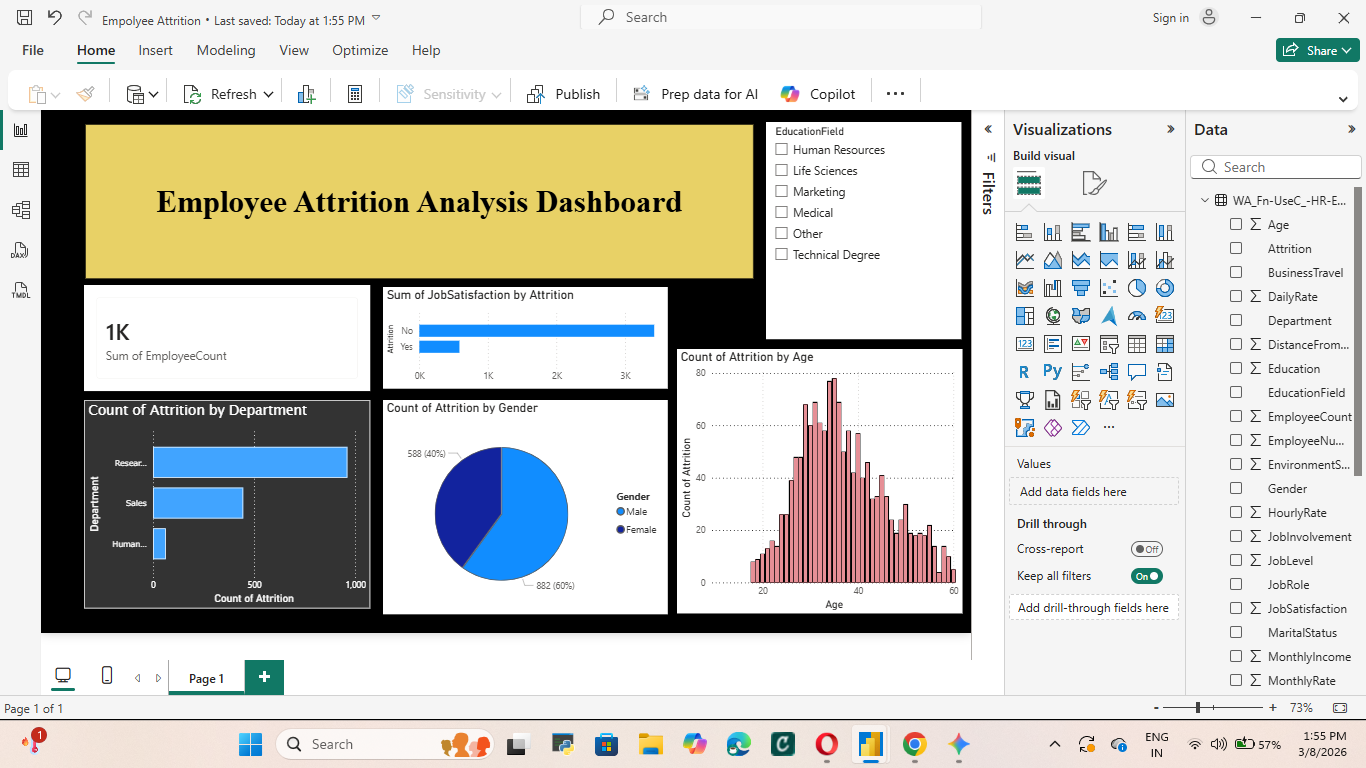

The dashboard page shown, as its layout file describes it:
{"tool":"powerbi","page":{"name":"Page 1","canvas":[1280,720],"ordinal":0},"visuals":[{"type":"clusteredBarChart","fields":{"Y":["CountNonNull(WA_Fn-UseC_-HR-Employee-Attrition.Attrition)"],"Category":["WA_Fn-UseC_-HR-Employee-Attrition.Department"]},"box":[59.9,399.7,394.4,287],"z":0},{"type":"pieChart","fields":{"Category":["WA_Fn-UseC_-HR-Employee-Attrition.Gender"],"Y":["CountNonNull(WA_Fn-UseC_-HR-Employee-Attrition.Attrition)"]},"box":[470.7,399.1,392.3,294.5],"z":1000},{"type":"columnChart","fields":{"Category":["WA_Fn-UseC_-HR-Employee-Attrition.Age"],"Y":["CountNonNull(WA_Fn-UseC_-HR-Employee-Attrition.Attrition)"]},"box":[875,329.2,392.6,364.5],"z":2000},{"type":"cardVisual","fields":{"Data":["Sum(WA_Fn-UseC_-HR-Employee-Attrition.EmployeeCount)"]},"box":[59.9,241.2,394.4,146.1],"z":3000},{"type":"shape","box":[60.2,19.6,920.3,213.4],"z":4000},{"type":"slicer","fields":{"Values":["WA_Fn-UseC_-HR-Employee-Attrition.EducationField"]},"box":[998.3,15.8,269.4,299.3],"z":5000},{"type":"barChart","fields":{"Y":["Sum(WA_Fn-UseC_-HR-Employee-Attrition.JobSatisfaction)"],"Category":["WA_Fn-UseC_-HR-Employee-Attrition.Attrition"]},"box":[470.7,243.6,392.3,140.4],"z":5001}]}

Visuals, with their boxes on the page's 1280x720 design canvas (x1, y1, x2, y2). These are canvas units, not pixel positions in the 1366x768 screenshot, which may show the page scaled, cropped or inside an application window:
clusteredBarChart - CountNonNull(WA_Fn-UseC_-HR-Employee-Attrition.Attrition) x WA_Fn-UseC_-HR-Employee-Attrition.Department: rect(60, 400, 454, 687)
pieChart - WA_Fn-UseC_-HR-Employee-Attrition.Gender x CountNonNull(WA_Fn-UseC_-HR-Employee-Attrition.Attrition): rect(471, 399, 863, 694)
columnChart - WA_Fn-UseC_-HR-Employee-Attrition.Age x CountNonNull(WA_Fn-UseC_-HR-Employee-Attrition.Attrition): rect(875, 329, 1268, 694)
cardVisual - Sum(WA_Fn-UseC_-HR-Employee-Attrition.EmployeeCount): rect(60, 241, 454, 387)
shape: rect(60, 20, 980, 233)
slicer - WA_Fn-UseC_-HR-Employee-Attrition.EducationField: rect(998, 16, 1268, 315)
barChart - Sum(WA_Fn-UseC_-HR-Employee-Attrition.JobSatisfaction) x WA_Fn-UseC_-HR-Employee-Attrition.Attrition: rect(471, 244, 863, 384)
